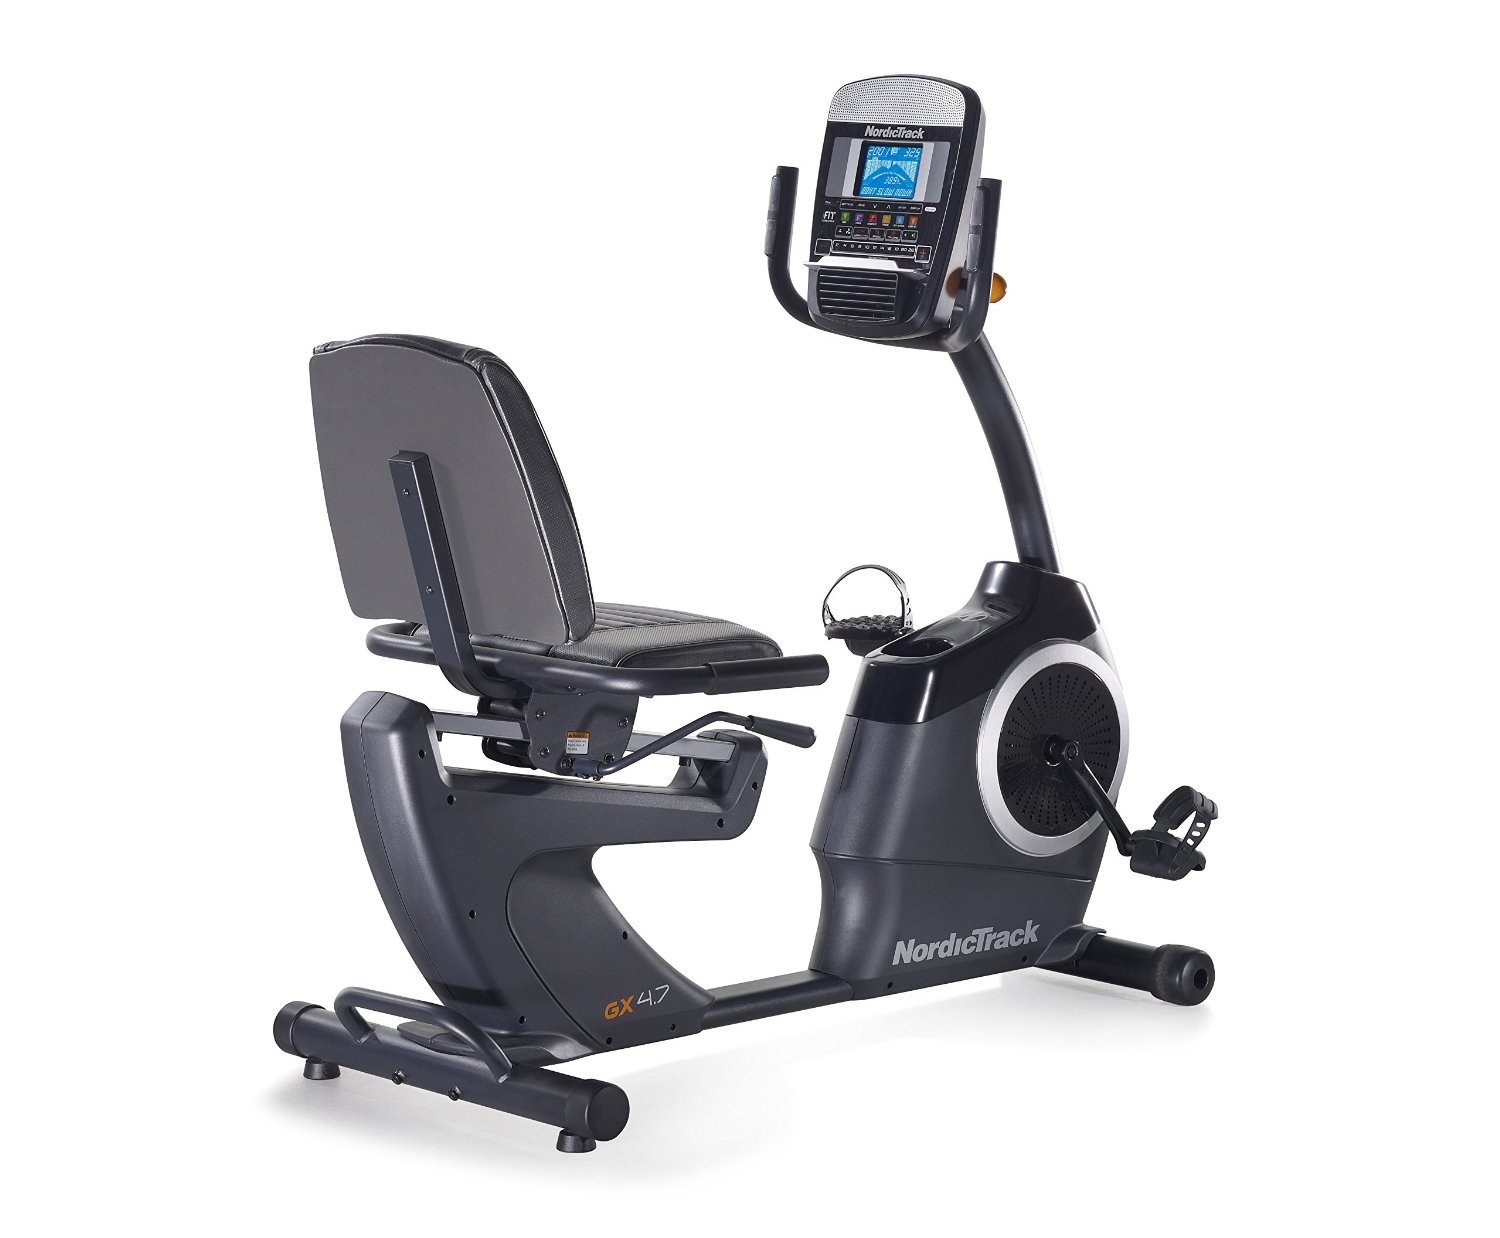gym_bike: (235, 54, 1246, 1184)
